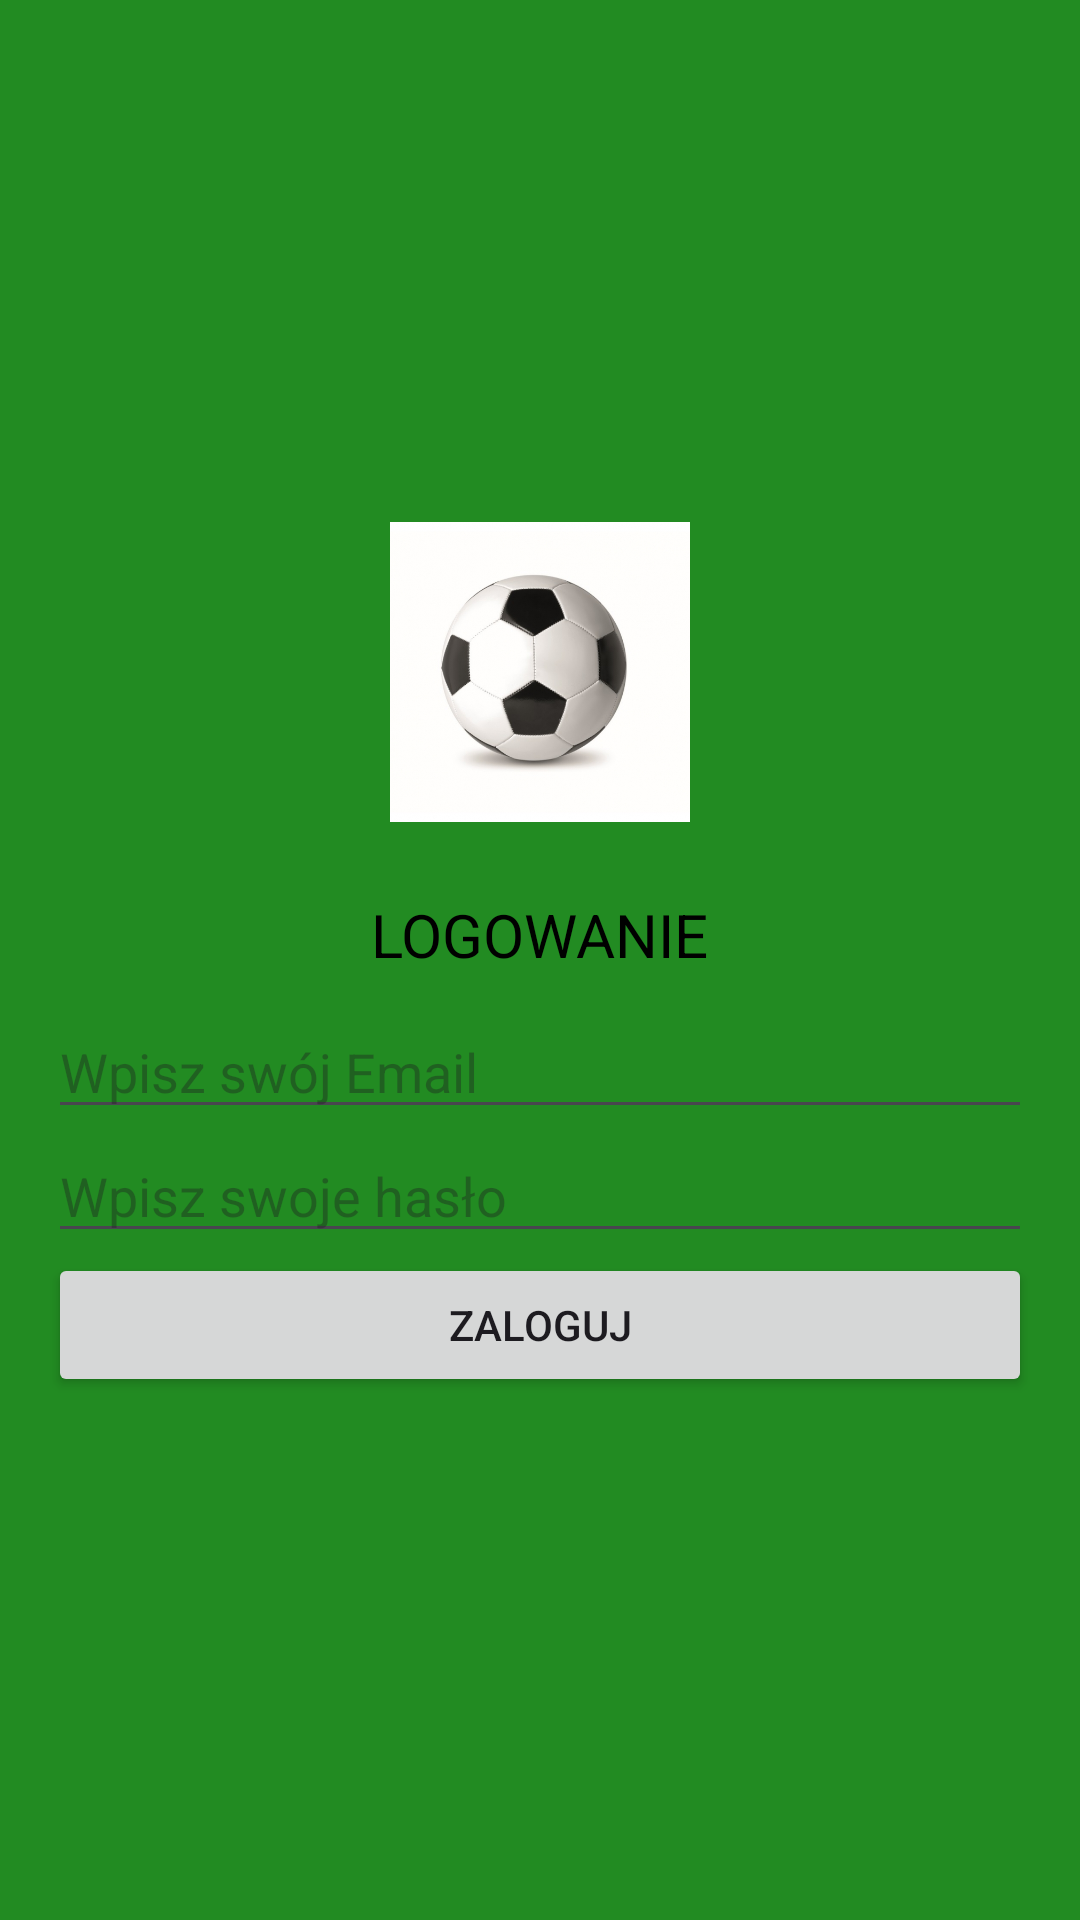

Screen size 1080w x 1920h. Icon name, then its center in pixels as [x,y]:
pilka: [540,672]
